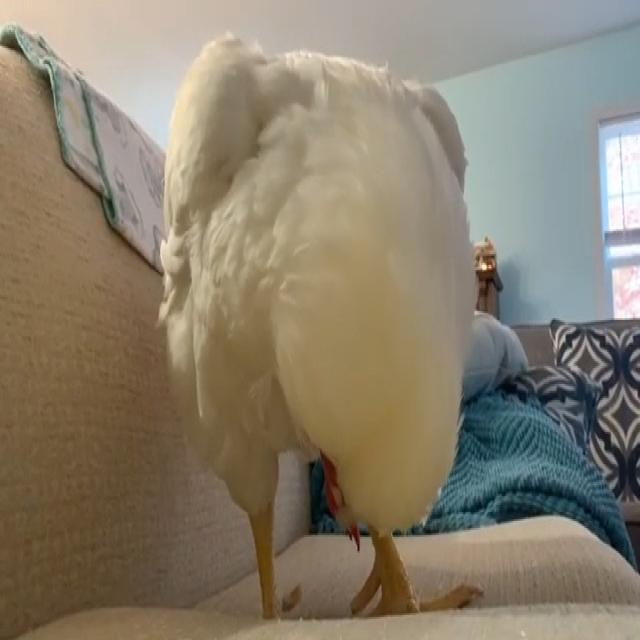self preening: (150, 21, 481, 624)
